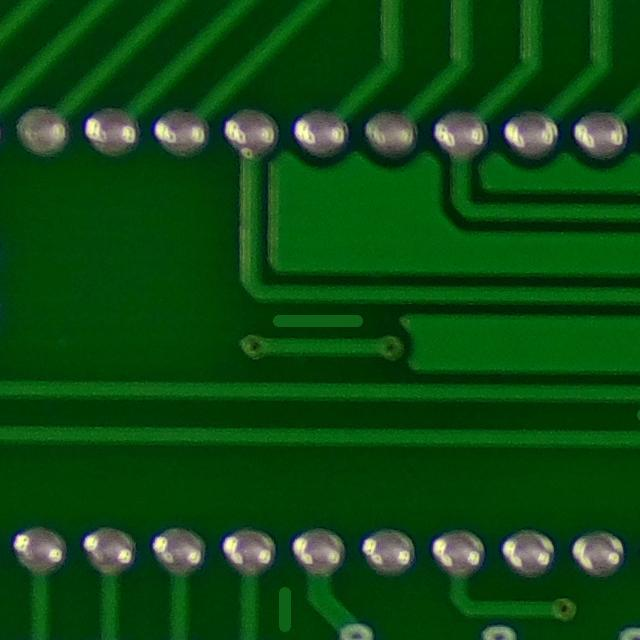spurious_copper: (255, 287, 385, 354)
